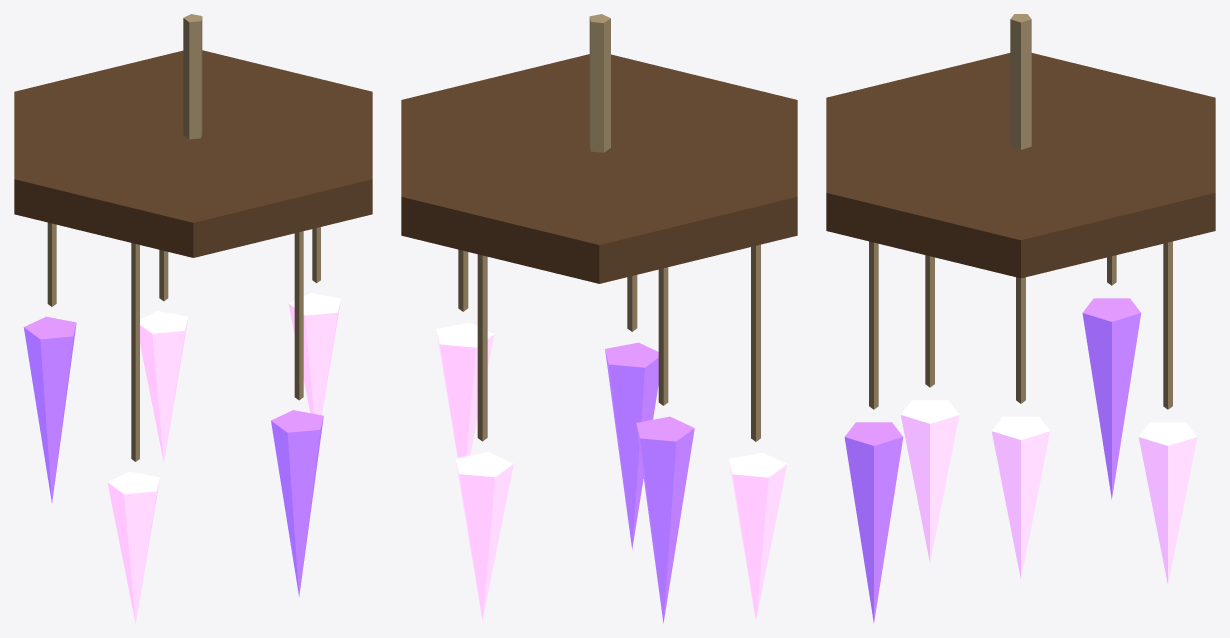
File: crystal_wind_chime.glb
3 views of the same model, side by side, from view 1: azimuth 30°, elevation 25°; view 2: azimuth 150°, elevation 25°; view 3: azimuth 270°, elevation 25° (orthographic). The views are drawn at different scales.
Parts seen in each view (by area): view 1: crystal_wind_chime, chimes; view 2: crystal_wind_chime, chimes; view 3: crystal_wind_chime, chimes.
Boxes of the visible parts, <box> form: crystal_wind_chime: <box>14,14,372,257</box>; chimes: <box>23,222,341,622</box>; crystal_wind_chime: <box>401,14,797,283</box>; chimes: <box>436,244,787,623</box>; crystal_wind_chime: <box>826,14,1215,278</box>; chimes: <box>844,241,1197,622</box>.
Bounding box in the file's own units: 0.32 × 0.47 × 0.2771.
